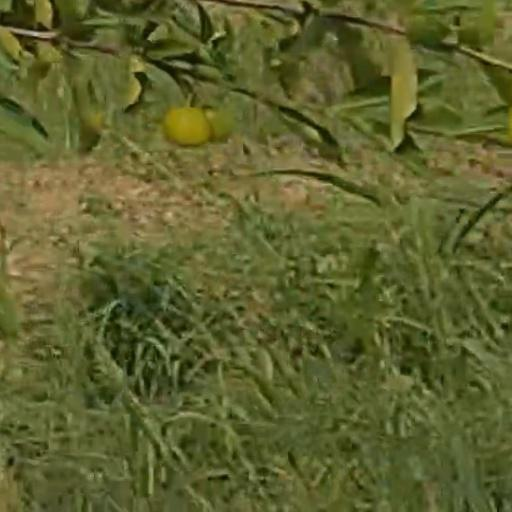acerola_verde: (165, 107, 206, 143), (208, 104, 234, 141)
